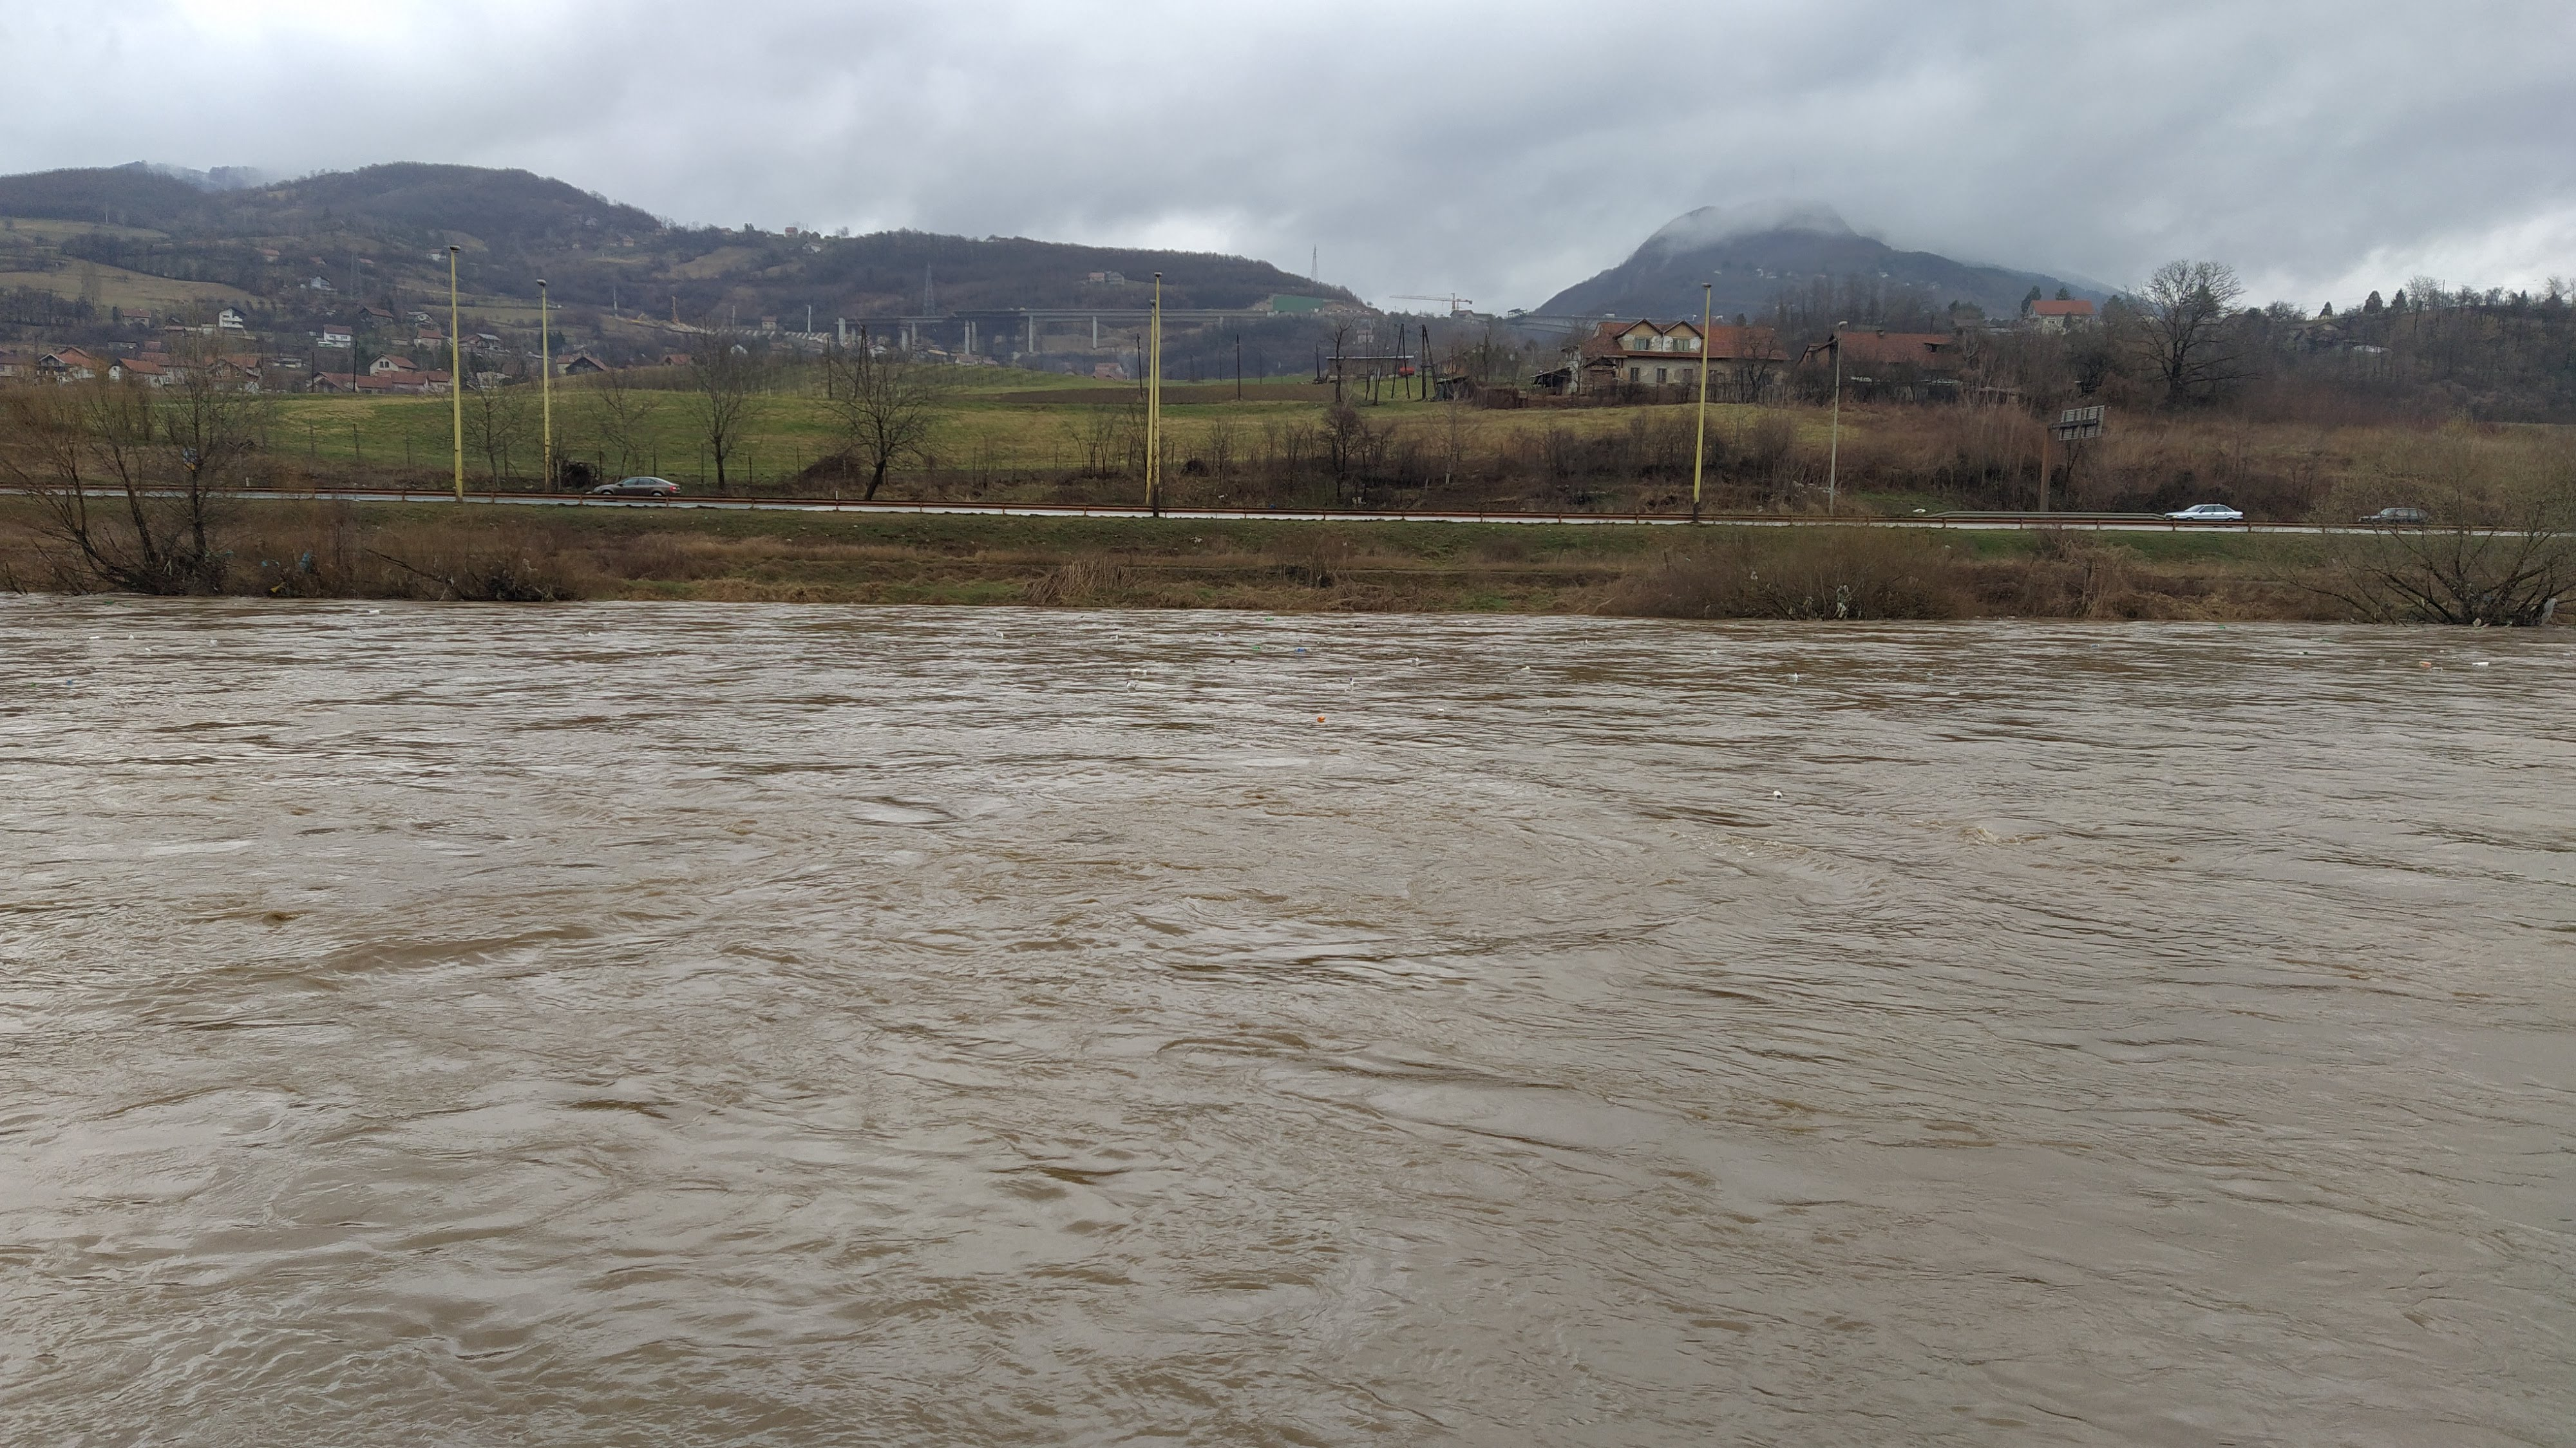Plastic Bottle: (1297, 648, 1309, 653), (1773, 789, 1782, 797), (2472, 662, 2488, 666), (2420, 660, 2431, 666), (67, 680, 74, 685), (30, 682, 37, 687), (88, 635, 99, 639), (2431, 667, 2442, 671), (104, 600, 113, 604), (124, 604, 133, 607), (1950, 690, 1959, 694), (1267, 618, 1274, 621), (1316, 717, 1323, 720), (2093, 644, 2098, 648), (370, 611, 379, 612), (1254, 646, 1260, 648), (2219, 625, 2224, 627), (2564, 653, 2569, 655)
